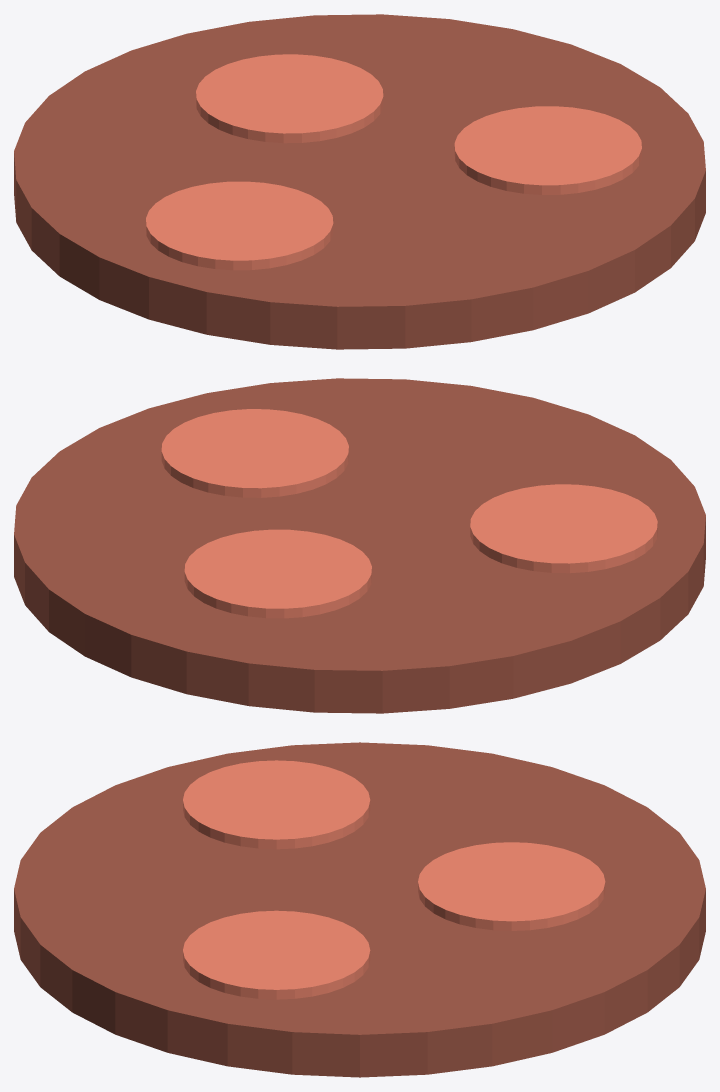
File: chorizon.glb
3 views of the same model, one above another, from view 1: azimuth 30°, elevation 25°; view 2: azimuth 150°, elevation 25°; view 3: azimuth 270°, elevation 25° (orthographic).
Visible parts, largest first — view 1: basePizza, g2, g1, g3; view 2: basePizza, g1, g2, g3; view 3: basePizza, g2, g1, g3.
Boxes of the visible parts, box(x1,y1,x2,y2) form: basePizza: box(14, 14, 705, 349); g2: box(146, 181, 333, 270); g1: box(196, 54, 383, 143); g3: box(454, 106, 641, 194); basePizza: box(14, 378, 705, 713); g1: box(184, 529, 371, 618); g2: box(470, 484, 657, 573); g3: box(161, 409, 348, 497); basePizza: box(14, 742, 705, 1077); g2: box(183, 760, 370, 849); g1: box(418, 842, 605, 930); g3: box(183, 910, 370, 999).
Bounding box in the file's own units: 0.191 × 0.0159 × 0.191.
